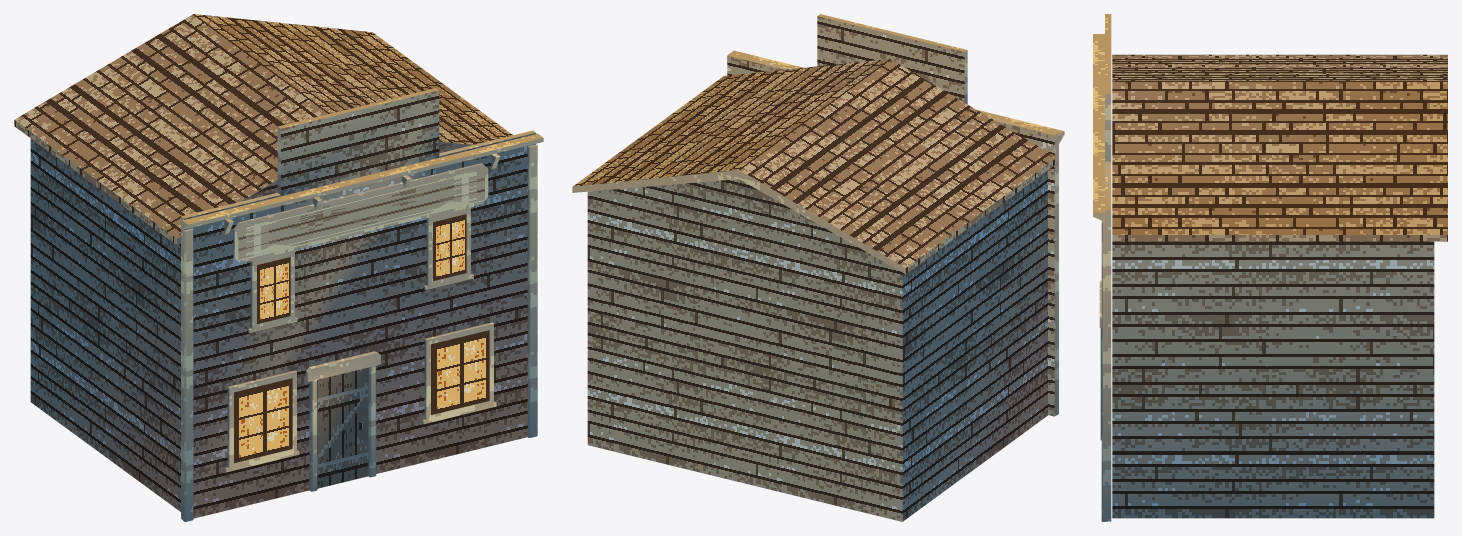
The model's file is wtown.facade__f_tall.glb.
3 views of the same model, side by side, from view 1: azimuth 30°, elevation 25°; view 2: azimuth 150°, elevation 25°; view 3: azimuth 270°, elevation 25° (orthographic). The views are drawn at different scales.
Visible parts, largest first — view 1: kit_front, kit_roof, kit_body, kit_card_panes, kit_trim, kit_windows; view 2: kit_body, kit_roof, kit_front, kit_trim; view 3: kit_body, kit_roof, kit_trim, kit_front.
Boxes of the visible parts, box(x1,y1,x2,y2) form: kit_front: box(181, 88, 535, 519); kit_roof: box(14, 14, 512, 245); kit_body: box(30, 138, 468, 511); kit_card_panes: box(234, 167, 489, 488); kit_trim: box(181, 133, 543, 521); kit_windows: box(225, 201, 496, 472); kit_body: box(587, 170, 1047, 521); kit_roof: box(572, 59, 1057, 274); kit_front: box(727, 14, 1057, 416); kit_trim: box(728, 50, 1064, 414); kit_body: box(1112, 241, 1434, 518); kit_roof: box(1112, 54, 1447, 241); kit_trim: box(1093, 34, 1105, 521); kit_front: box(1105, 14, 1111, 521).
Size of the model in its own units: 7.94 by 7.8 by 6.61.
6 materials, 6 textured.
